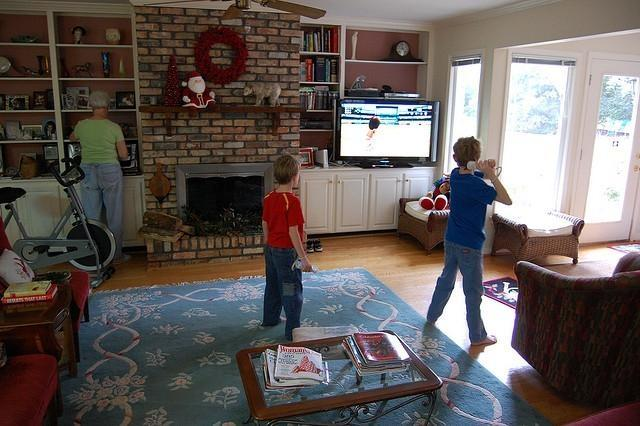bicycle: (0, 136, 120, 284)
